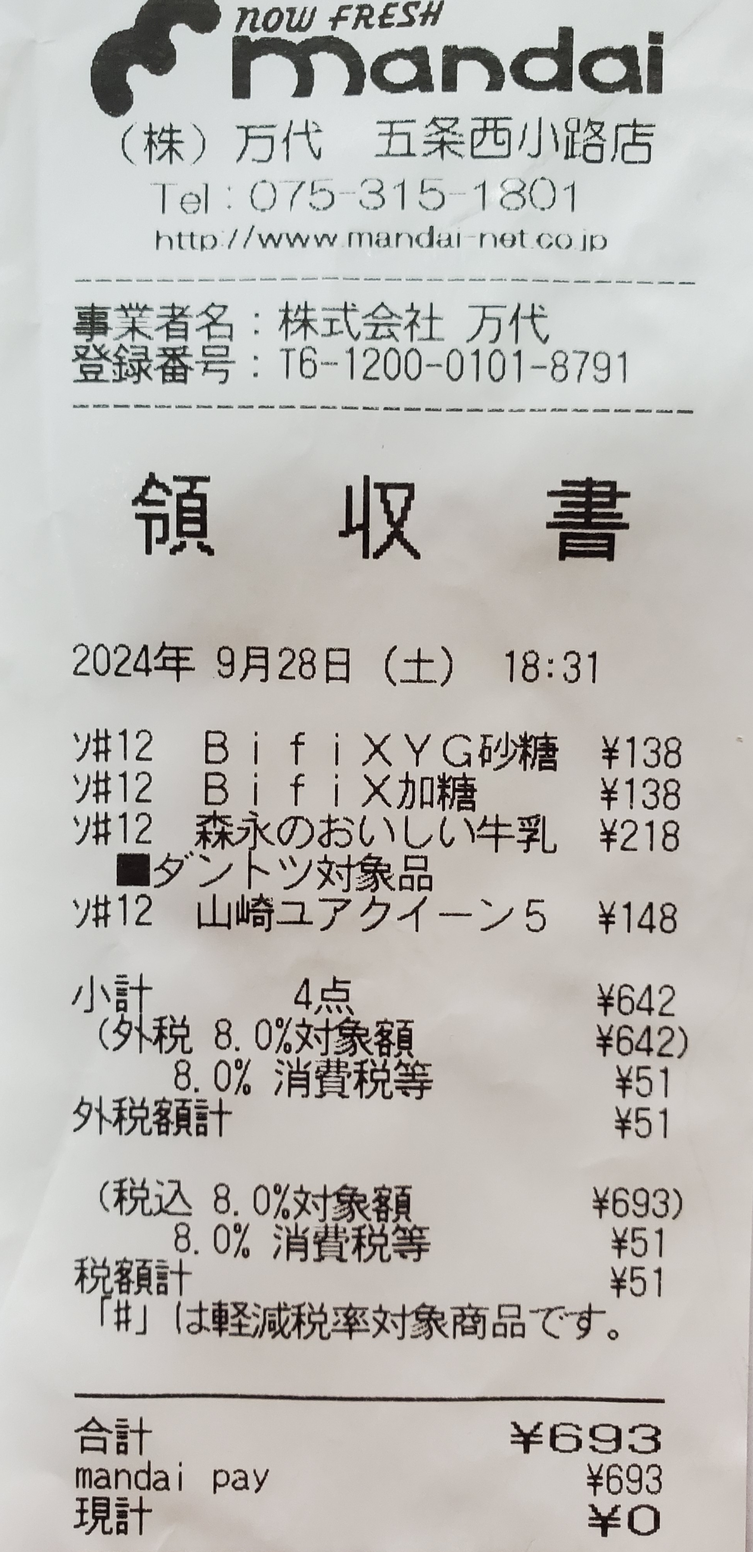Date: (64, 637, 370, 692)
Shopname: (224, 4, 683, 109)
Telnum: (243, 169, 597, 226)
Totalpay: (64, 1405, 690, 1463)
